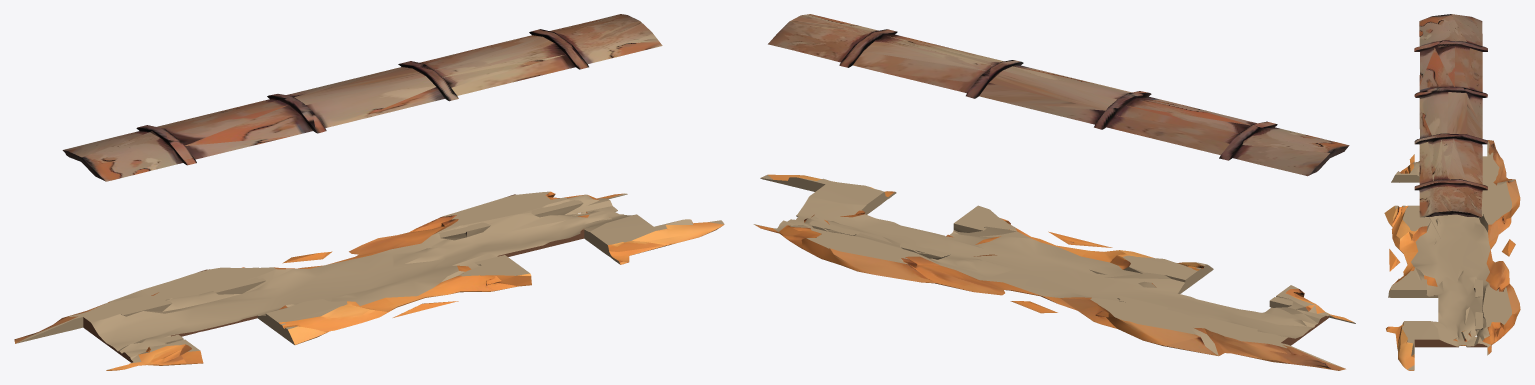
The model's file is wagon_shell.glb.
The picture shows the model from 3 angles, left to right: view 1: azimuth 30°, elevation 25°; view 2: azimuth 150°, elevation 25°; view 3: azimuth 270°, elevation 25°; orthographic projection. The views are drawn at different scales.
Visible parts, largest first — view 1: wl_wagon; view 2: wl_wagon; view 3: wl_wagon.
Part boxes in pixels (left/top/right/bottom): wl_wagon: left=14, top=14, right=724, bottom=370; wl_wagon: left=753, top=14, right=1355, bottom=370; wl_wagon: left=1384, top=14, right=1520, bottom=370.
Size of the model in its own units: 12.05 by 3.46 by 3.
2 materials, 1 textured.
